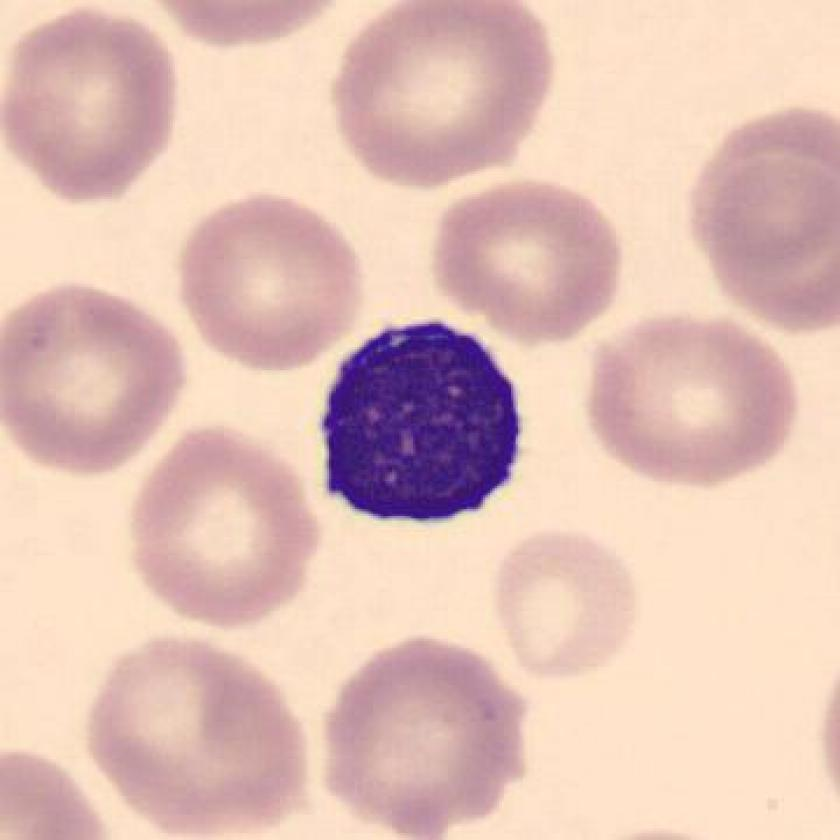lymphocyte: (302, 306, 542, 545)
